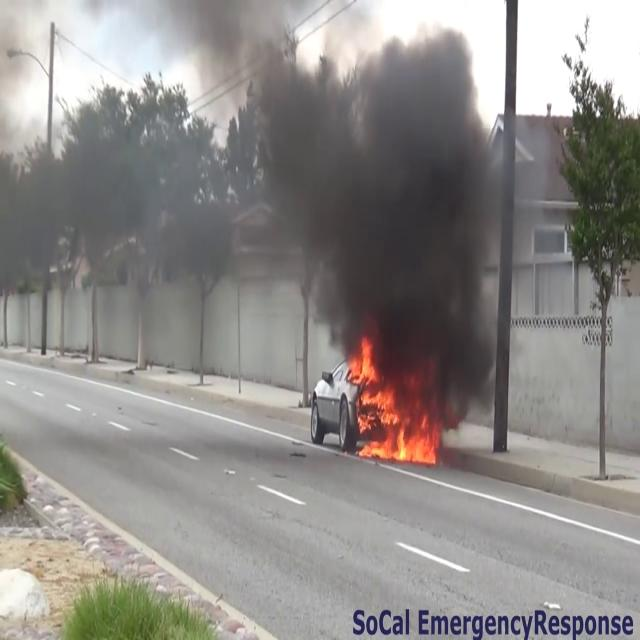Fire: (346, 337, 436, 467)
Smoke: (2, 0, 516, 358)
